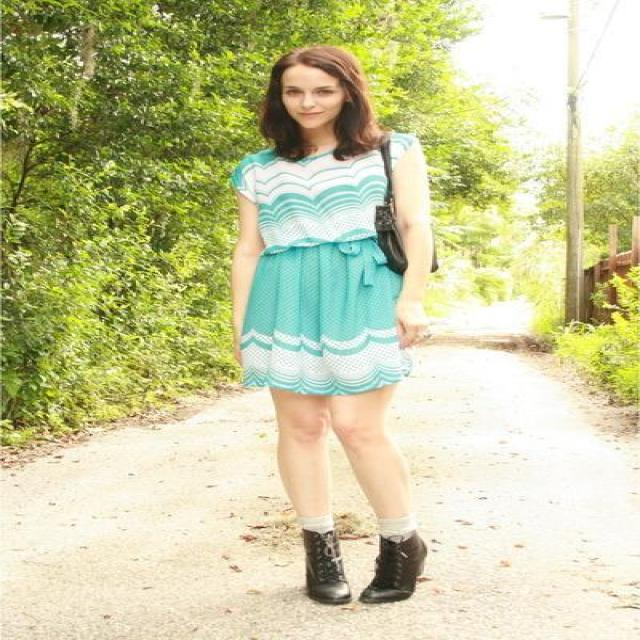bag: (368, 166, 408, 280)
dress: (230, 130, 428, 401)
shoe: (300, 529, 426, 605)
